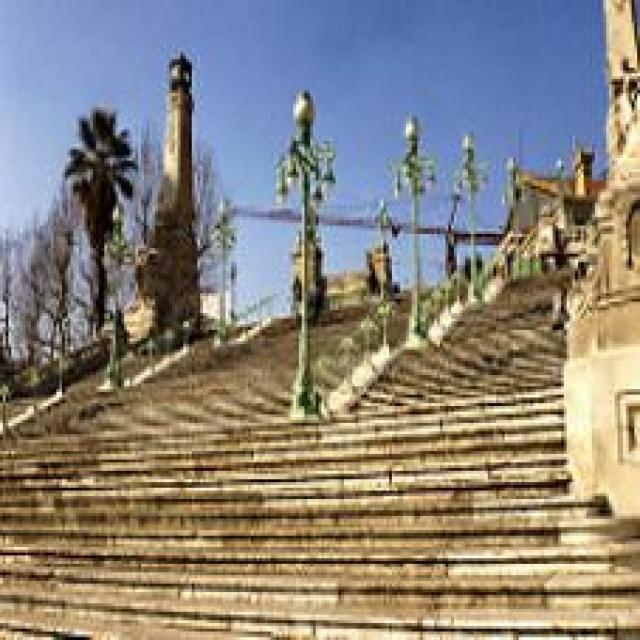upstair: (38, 413, 576, 619)
